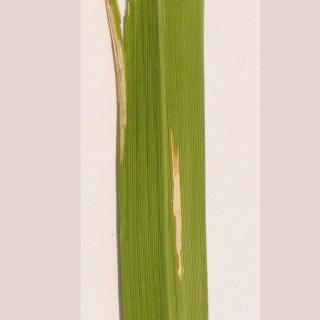Hawar-Daun: (96, 0, 146, 164), (162, 129, 196, 277)
